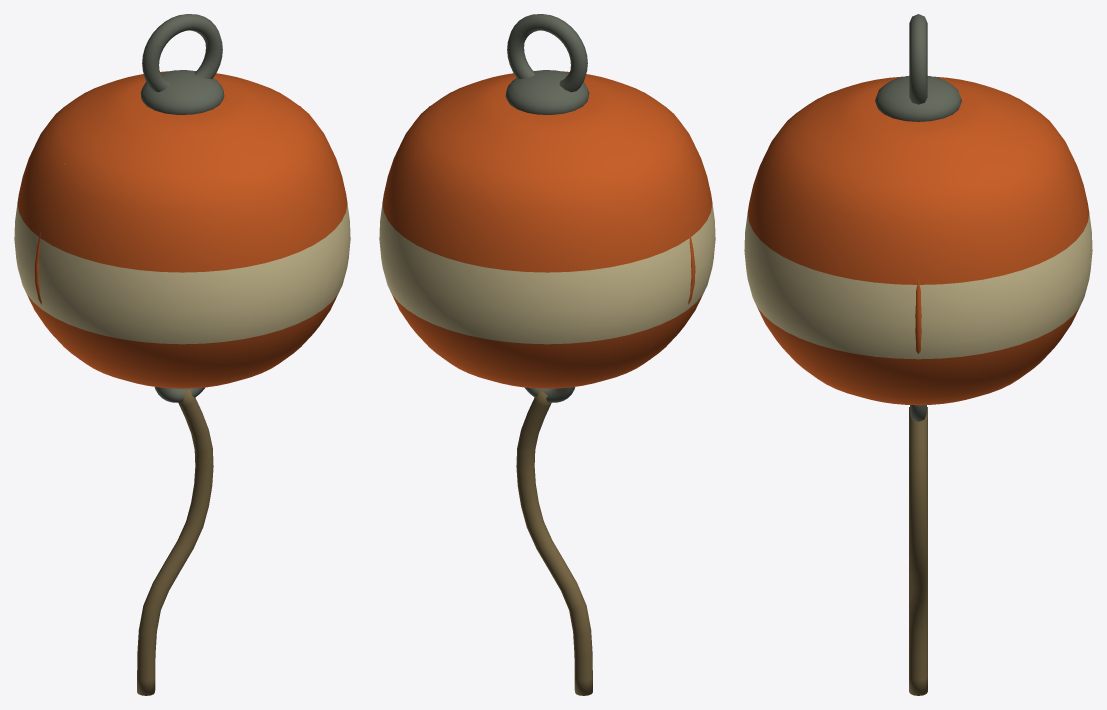
Rendered from coastal_buoy.glb.
3 views of the same model, side by side, from view 1: azimuth 30°, elevation 25°; view 2: azimuth 150°, elevation 25°; view 3: azimuth 270°, elevation 25° (orthographic). The views are drawn at different scales.
Visible parts, largest first — view 1: BuoyBody, Rope, Handle, TopPlug; view 2: BuoyBody, Rope, Handle, TopPlug; view 3: BuoyBody, Rope, TopPlug, Handle.
Part boxes in pixels (<box>): BuoyBody: <box>14,71,350,388</box>; Rope: <box>137,388,213,695</box>; Handle: <box>142,14,222,92</box>; TopPlug: <box>140,70,224,114</box>; BuoyBody: <box>379,71,715,388</box>; Rope: <box>516,388,592,695</box>; Handle: <box>507,14,587,92</box>; TopPlug: <box>505,70,589,114</box>; BuoyBody: <box>744,76,1092,405</box>; Rope: <box>909,407,927,695</box>; TopPlug: <box>875,76,961,121</box>; Handle: <box>909,14,927,104</box>.
Size of the model in its own units: 0.9698 by 2.1 by 0.9575.
